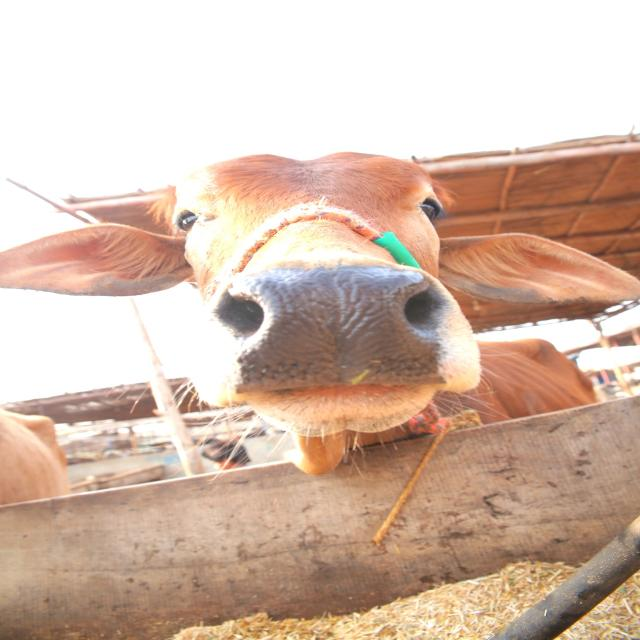muzzles: (202, 260, 462, 396)
